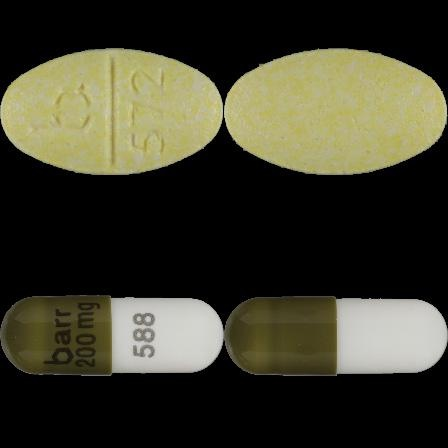0555-0572: (0, 0, 224, 224)
